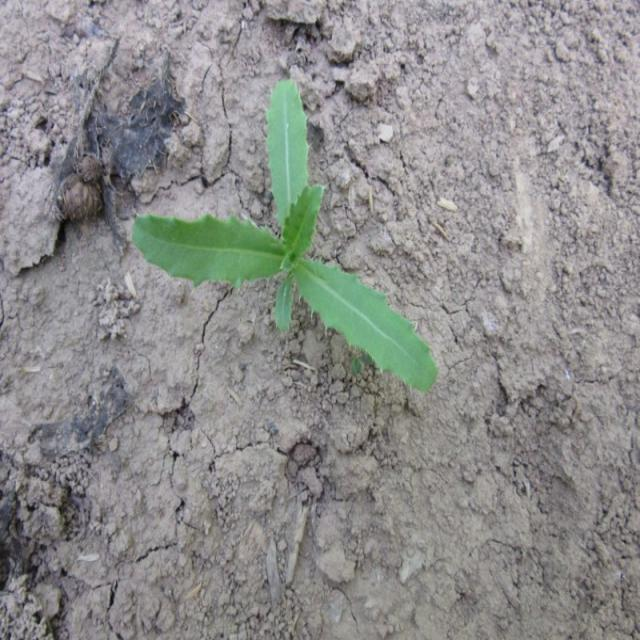field_thistle: (125, 85, 453, 432)
